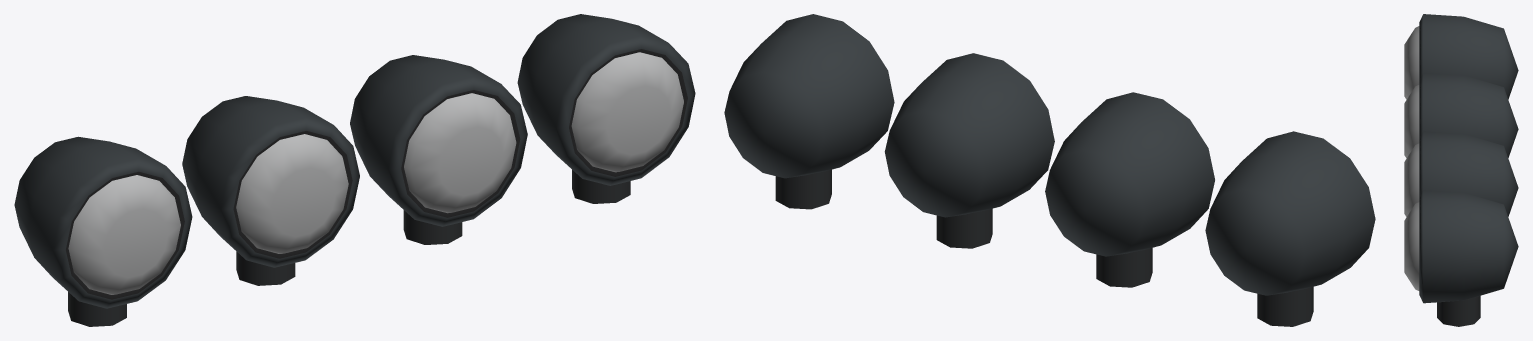
File: Car_12_FogLight.fbx
The picture shows the model from 3 angles, left to right: view 1: azimuth 30°, elevation 25°; view 2: azimuth 150°, elevation 25°; view 3: azimuth 270°, elevation 25°; orthographic projection. The views are drawn at different scales.
Parts seen in each view (by area): view 1: Car_12_FogLight; view 2: Car_12_FogLight; view 3: Car_12_FogLight.
Boxes of the visible parts, bbox=[...] form: Car_12_FogLight: bbox=[14, 14, 695, 326]; Car_12_FogLight: bbox=[724, 14, 1375, 326]; Car_12_FogLight: bbox=[1404, 14, 1518, 326].
Size of the model in its own units: 85.96 by 18.43 by 21.76.
